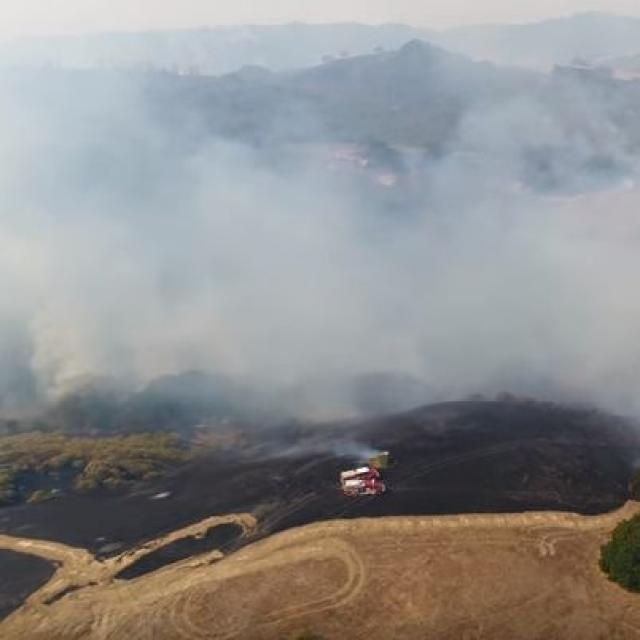Smoke: (13, 1, 640, 410)
